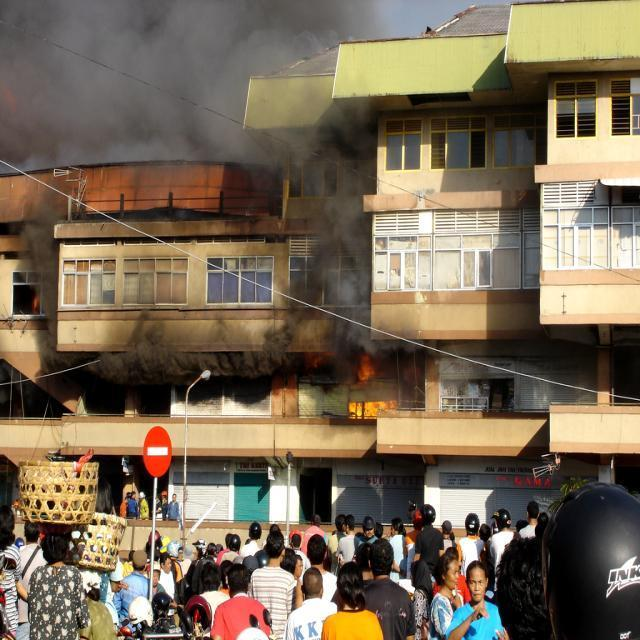Fire: (336, 353, 402, 416)
Smoke: (0, 0, 377, 194), (258, 76, 427, 412)
